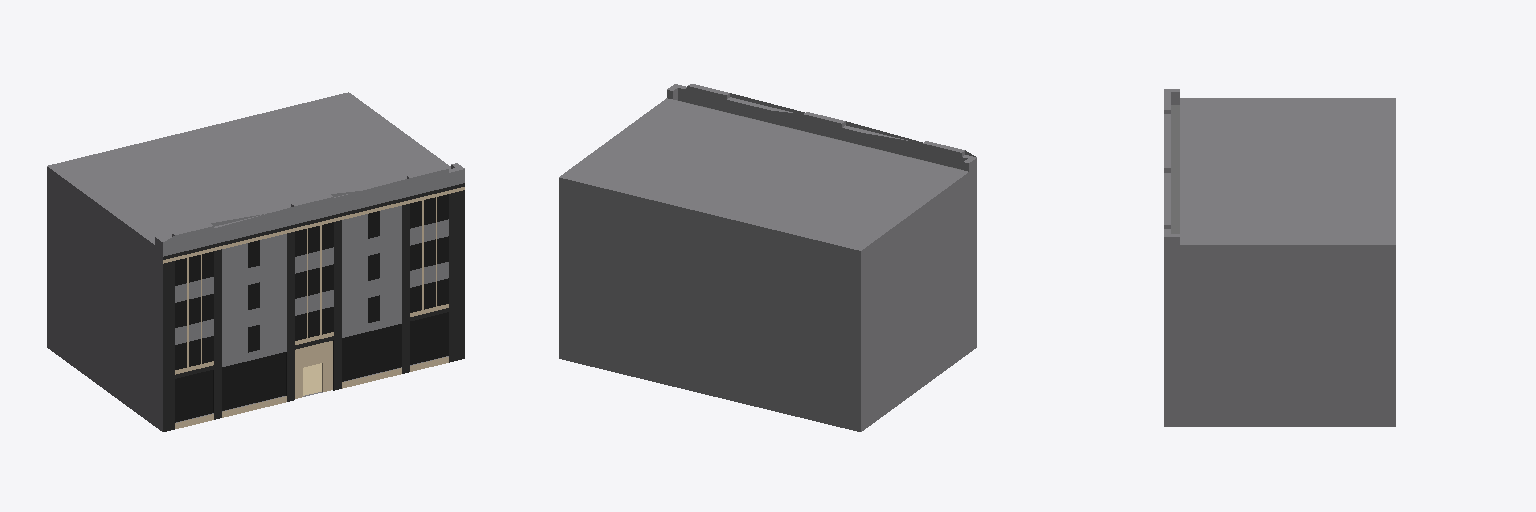
Rendered from banco.obj.
3 renders of one model, left to right at view 1: azimuth 30°, elevation 25°; view 2: azimuth 150°, elevation 25°; view 3: azimuth 270°, elevation 25°, orthographic.
Visible parts, largest first — view 1: Mesh43 Mixed_use_loft_large1 Model, Mesh35 Front_Glass_2_1_1 Mixed_use_loft_large1 Model, Mesh36 Front_Glass_3_1_1 Mixed_use_loft_large1 Model, Mesh37 Front_Glass_4_1_1 Mixed_use_loft_large1 Model, Mesh34 Front_Glass_1_1_1 Mixed_use_loft_large1 Model; view 2: Mesh43 Mixed_use_loft_large1 Model; view 3: Mesh43 Mixed_use_loft_large1 Model, Mesh38 Top1 Mixed_use_loft_large1 Model.
Part boxes in pixels (x1,y1,x2,y2): Mesh43 Mixed_use_loft_large1 Model: (47,92,464,431); Mesh35 Front_Glass_2_1_1 Mixed_use_loft_large1 Model: (222,352,285,410); Mesh36 Front_Glass_3_1_1 Mixed_use_loft_large1 Model: (342,324,401,381); Mesh37 Front_Glass_4_1_1 Mixed_use_loft_large1 Model: (410,312,448,364); Mesh34 Front_Glass_1_1_1 Mixed_use_loft_large1 Model: (175,370,212,422); Mesh43 Mixed_use_loft_large1 Model: (559,84,976,431); Mesh43 Mixed_use_loft_large1 Model: (1164,89,1395,426); Mesh38 Top1 Mixed_use_loft_large1 Model: (1171,105,1179,233).
Size of the model in its own units: 22.86 by 14.02 by 15.24.